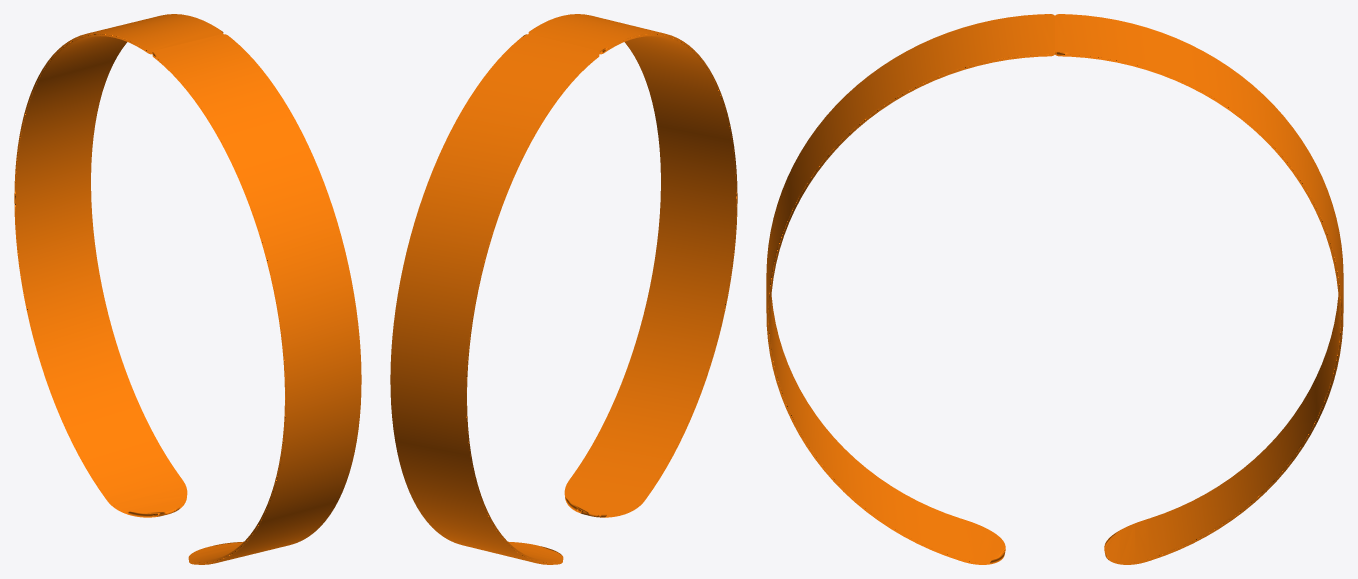
File: base_ring.obj
The picture shows the model from 3 angles, left to right: view 1: azimuth 30°, elevation 25°; view 2: azimuth 150°, elevation 25°; view 3: azimuth 270°, elevation 25°; orthographic projection. The views are drawn at different scales.
Parts seen in each view (by area): view 1: base_ring; view 2: base_ring; view 3: base_ring.
Boxes of the visible parts, x1=… form: base_ring: x1=14, y1=14, x2=361, y2=564; base_ring: x1=390, y1=14, x2=737, y2=564; base_ring: x1=766, y1=14, x2=1343, y2=564.
Bounding box in the file's own units: 0.085 × 0.5339 × 0.538.
